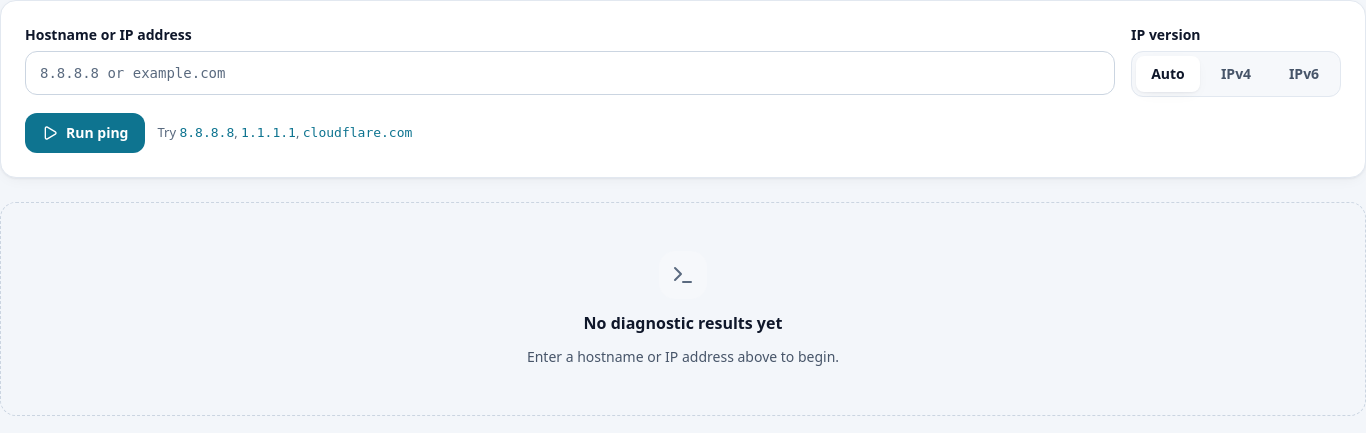
it: DiagnosticRunner › uses distinct friendly copy for timeout
Type "8.8.8.8" into the field labelled "Hostname or IP address" at x=570, y=73, box [25,51,1115,95]
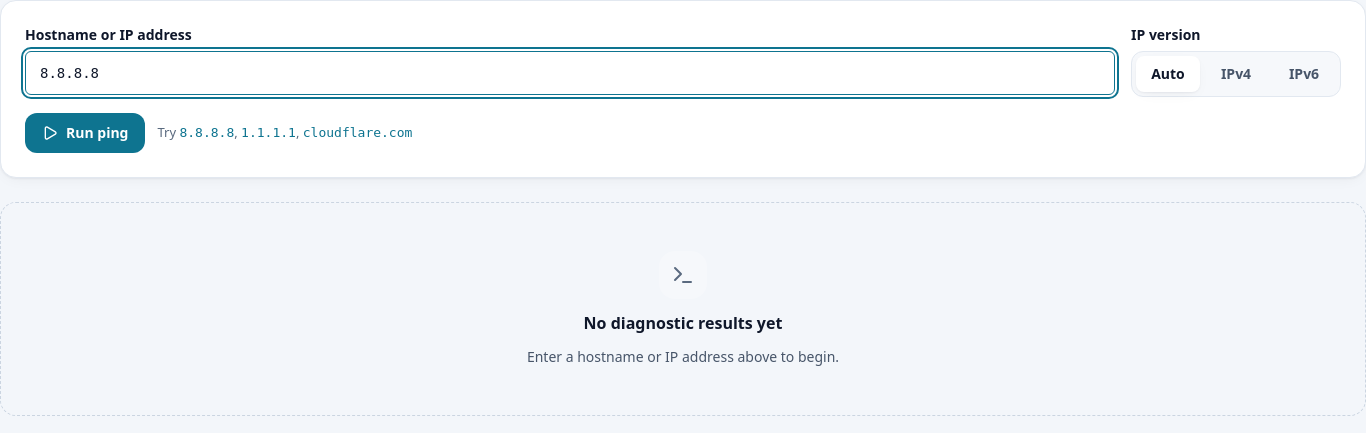
Click the button "Run ping" at x=85, y=133, box [25,113,146,153]
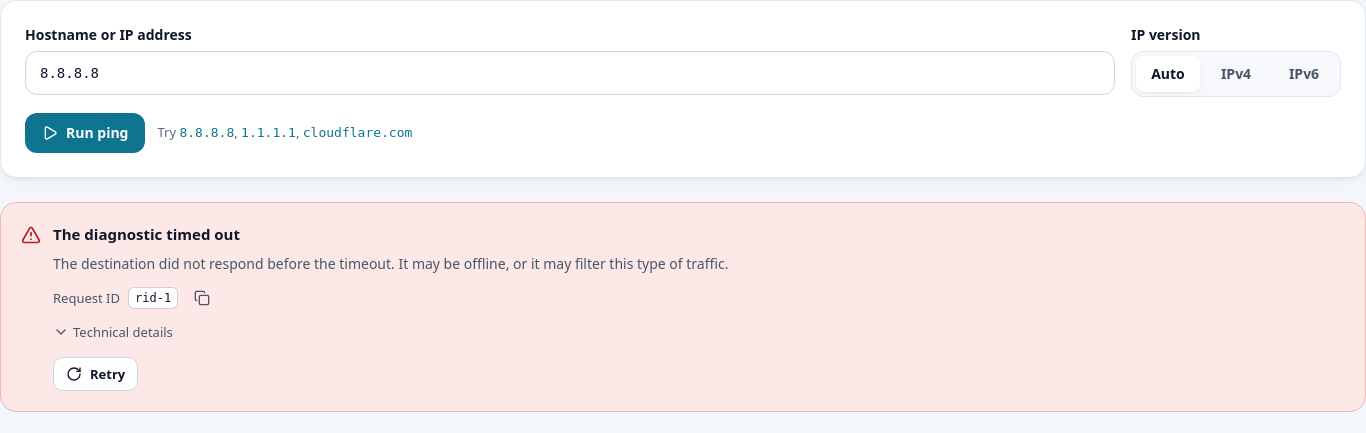
Expected: the message shows "The diagnostic timed out", [53,224,240,244]
